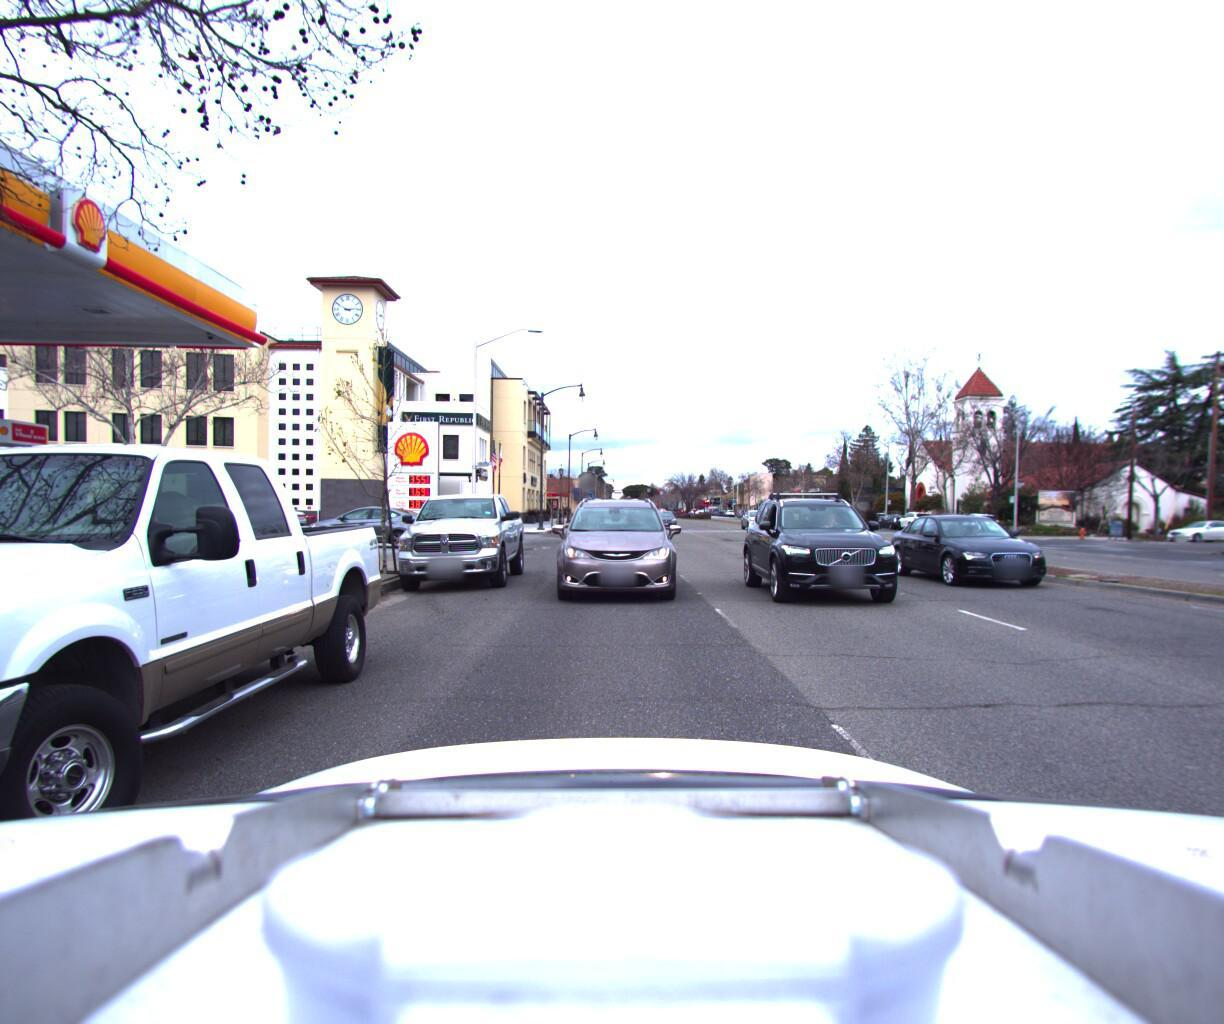car: (0, 379, 392, 990), (747, 481, 938, 621), (533, 492, 686, 616), (379, 485, 528, 595), (895, 513, 1095, 594), (307, 500, 440, 547), (1154, 515, 1224, 541), (947, 509, 997, 534), (890, 507, 931, 529), (739, 506, 773, 527), (870, 510, 909, 528), (652, 508, 680, 530)
